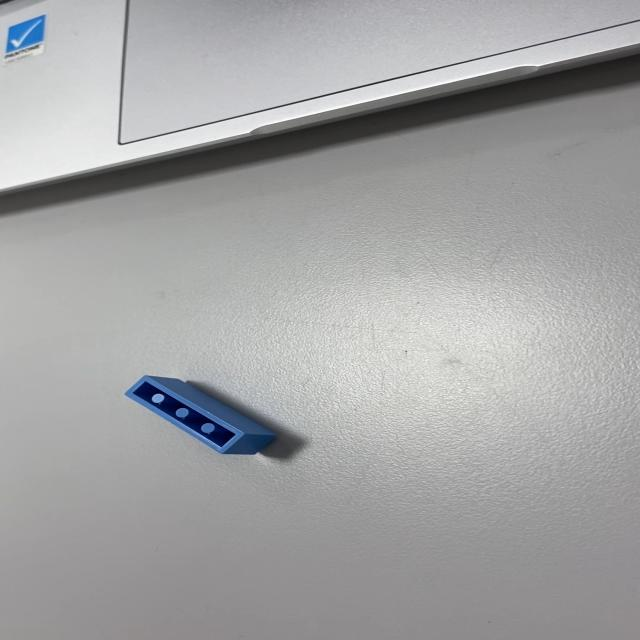C4x1x1: (122, 374, 277, 455)
